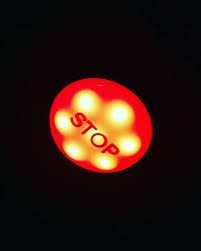bell: (46, 71, 159, 180)
